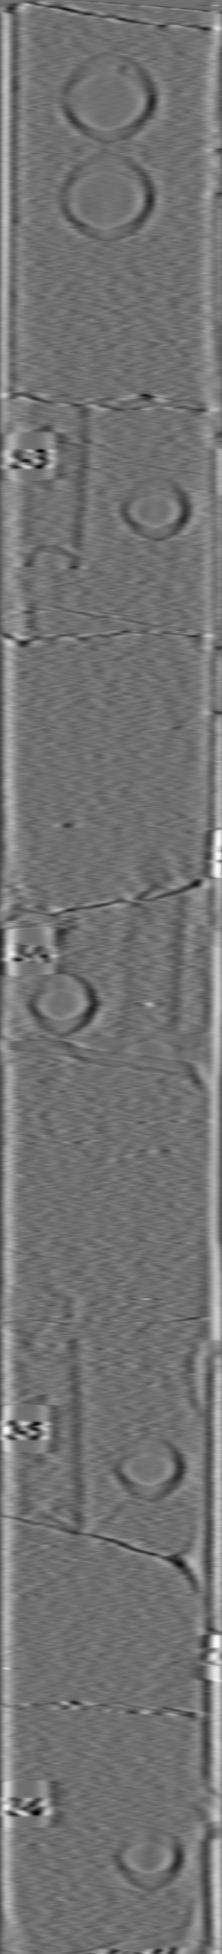hplug: (109, 1819, 192, 1895), (112, 470, 196, 545), (109, 1432, 186, 1508), (26, 966, 100, 1038)
scal: (54, 49, 163, 146), (56, 148, 162, 245)
vplug: (12, 1330, 92, 1538), (22, 396, 94, 572), (113, 879, 188, 1044)
